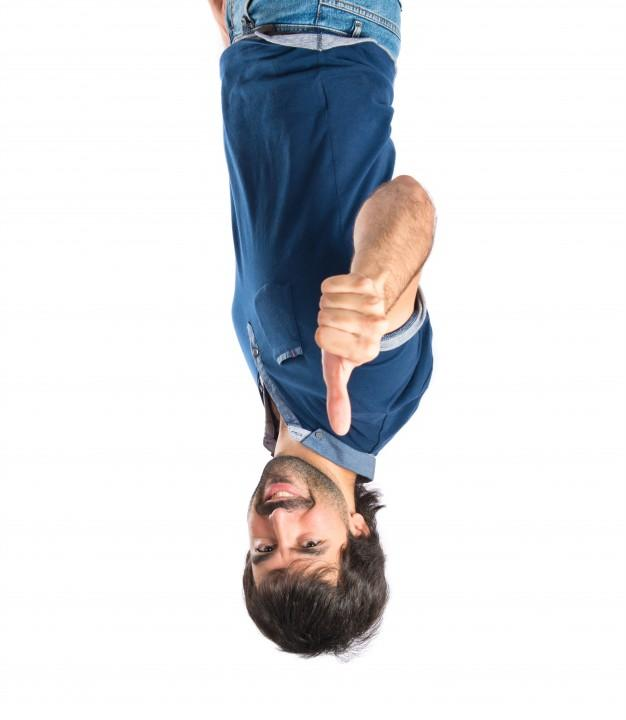thumbsdown: (314, 275, 388, 436)
